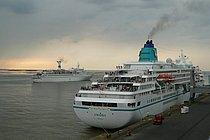Ship: (71, 36, 200, 134)
